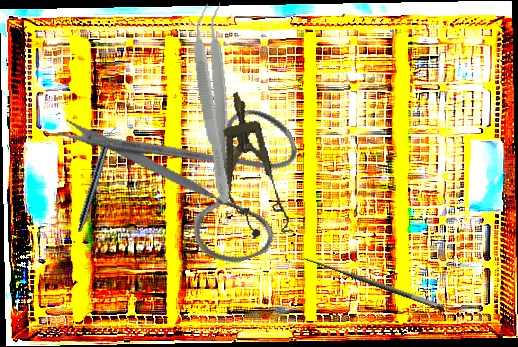Handpiece: (75, 124, 118, 234)
Hook Surgical: (297, 251, 446, 323)
Iris Scissors: (53, 49, 327, 306)
Speculum: (208, 86, 294, 244)
Tissue Forceps: (187, 1, 246, 205)
